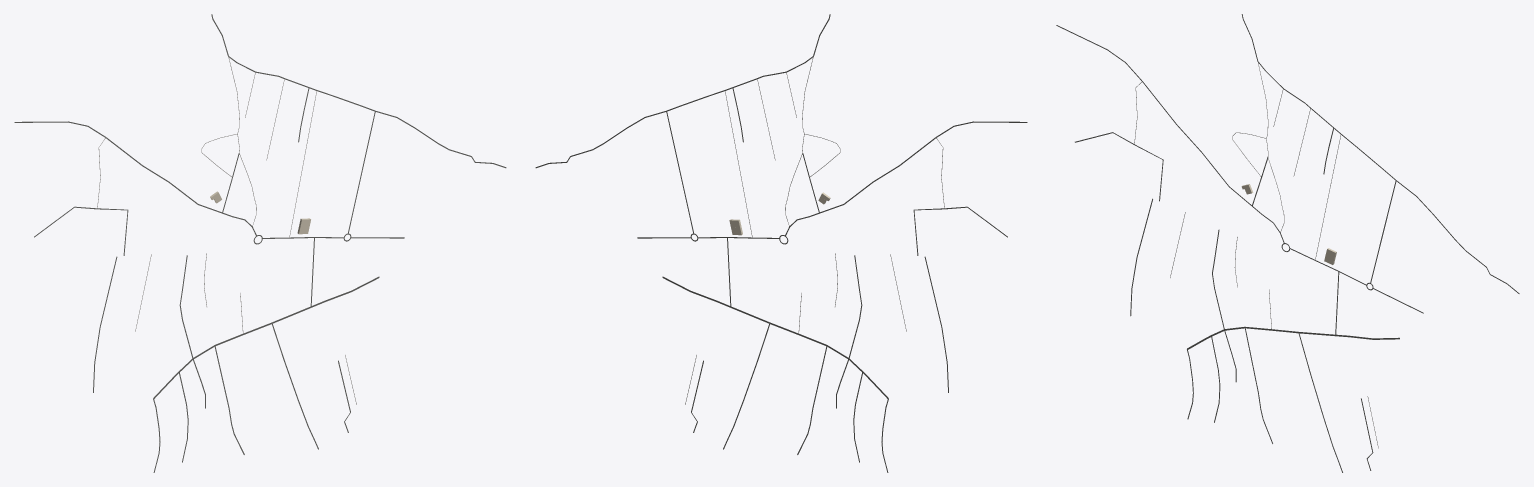
Rendered from historic-palestine-08_31_3504_3250.glb.
3 renders of one model, left to right at view 1: azimuth 30°, elevation 25°; view 2: azimuth 150°, elevation 25°; view 3: azimuth 330°, elevation 25°, orthographic. The views are drawn at different scales.
Parts seen in each view (by area): view 1: Road .003, Road .001; view 2: Road .003, Road .001; view 3: Road .003, Road .001.
Boxes of the visible parts, x1,y1,x2,y2 form: Road .003: [211, 14, 506, 168]; Road .001: [153, 276, 379, 398]; Road .003: [535, 14, 830, 168]; Road .001: [662, 276, 888, 398]; Road .003: [1241, 14, 1519, 293]; Road .001: [1187, 326, 1399, 349].
Size of the model in its own units: 1565 by 1403 by 8.7.
